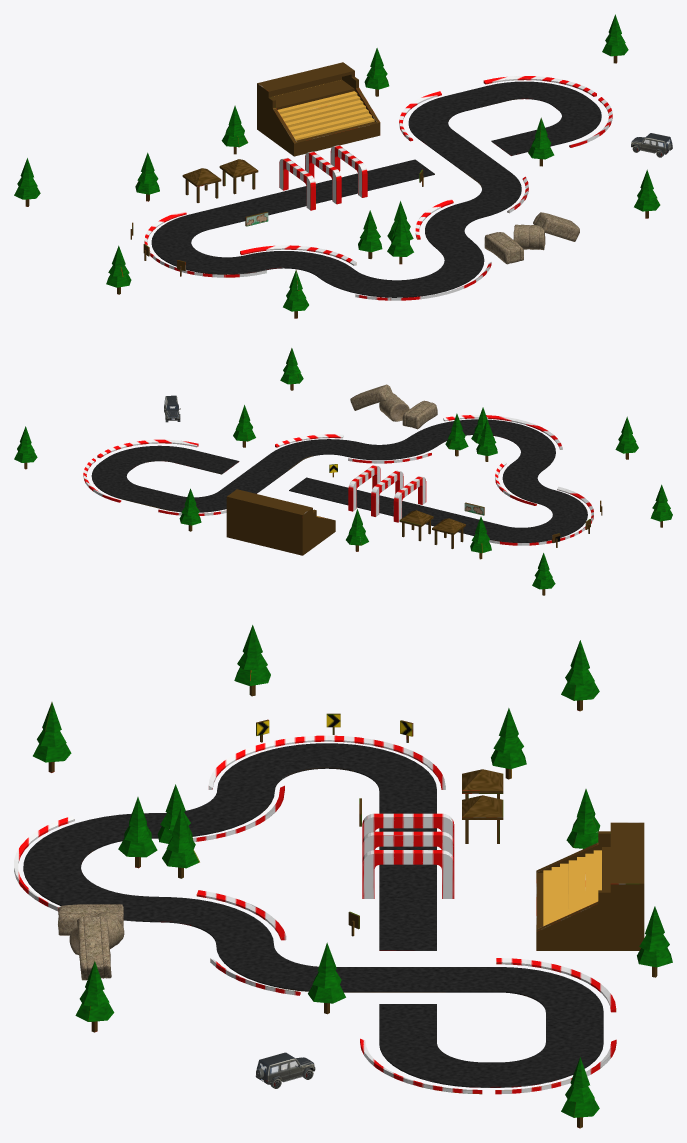
The model's file is track01.glb.
3 views of the same model, one above another, from view 1: azimuth 30°, elevation 25°; view 2: azimuth 150°, elevation 25°; view 3: azimuth 270°, elevation 25° (orthographic). The views are drawn at different scales.
Parts seen in each view (by area): view 1: Track, Cube_1, Cylinder_0, NurbsPath; view 2: Track, Cube_1, Cylinder_0, NurbsPath; view 3: Track, Cube_1, NurbsPath.
Boxes of the visible parts, <box> form: Track: <box>14,14,660,318</box>; Cube_1: <box>484,212,579,264</box>; Cylinder_0: <box>513,224,545,250</box>; NurbsPath: <box>631,133,672,157</box>; Track: <box>14,348,672,595</box>; Cube_1: <box>350,384,437,429</box>; Cylinder_0: <box>379,393,409,421</box>; NurbsPath: <box>164,395,180,422</box>; Track: <box>14,625,672,1128</box>; Cube_1: <box>58,904,123,980</box>; NurbsPath: <box>255,1052,315,1088</box>.
Size of the model in its own units: 58.05 by 4.48 by 36.06.
Materials: 3 (3 with a texture image).
